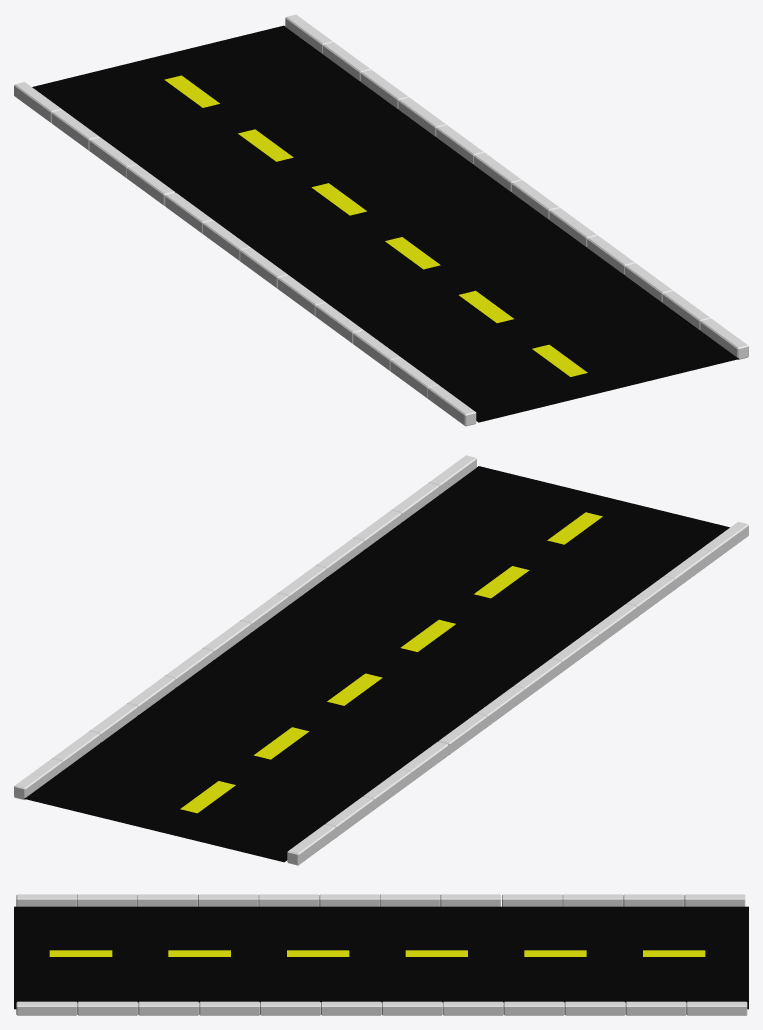
Rendered from LowRoad.fbx.
3 views of the same model, one above another, from view 1: azimuth 30°, elevation 25°; view 2: azimuth 150°, elevation 25°; view 3: azimuth 270°, elevation 25° (orthographic). The views are drawn at different scales.
Visible parts, largest first — view 1: Plane.004; view 2: Plane.004; view 3: Plane.004.
Part boxes in pixels (x1,y1,x2,y2): Plane.004: [14, 14, 748, 426]; Plane.004: [14, 455, 748, 865]; Plane.004: [14, 894, 748, 1015].
Bounding box in the file's own units: 480 × 20.05 × 1331.
